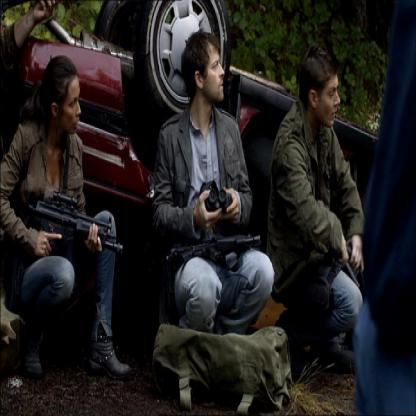Gun: (16, 189, 122, 264), (160, 230, 266, 268)
